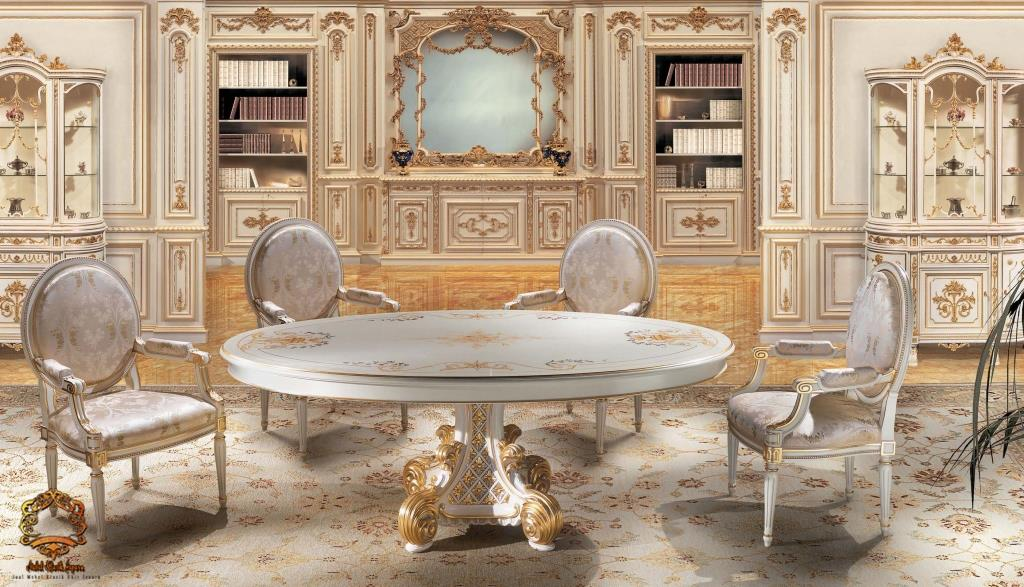Carving Chair: (22, 257, 250, 544), (725, 258, 933, 568)
Carving Table: (233, 304, 714, 565)
